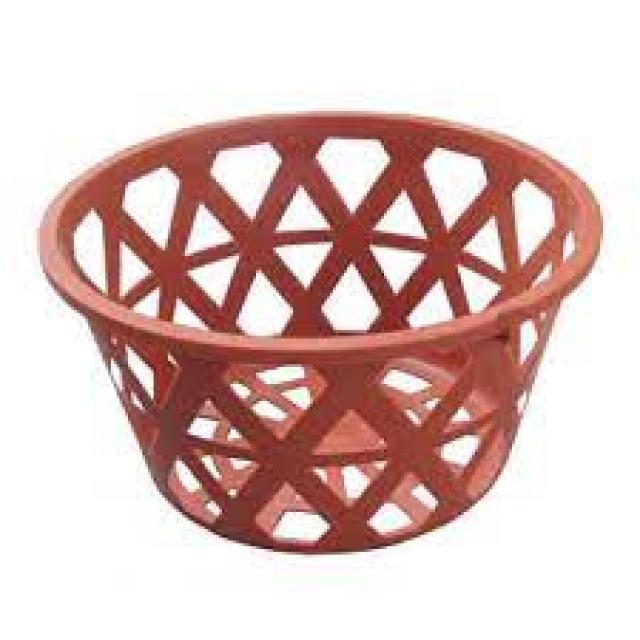basket: (31, 89, 626, 579)
